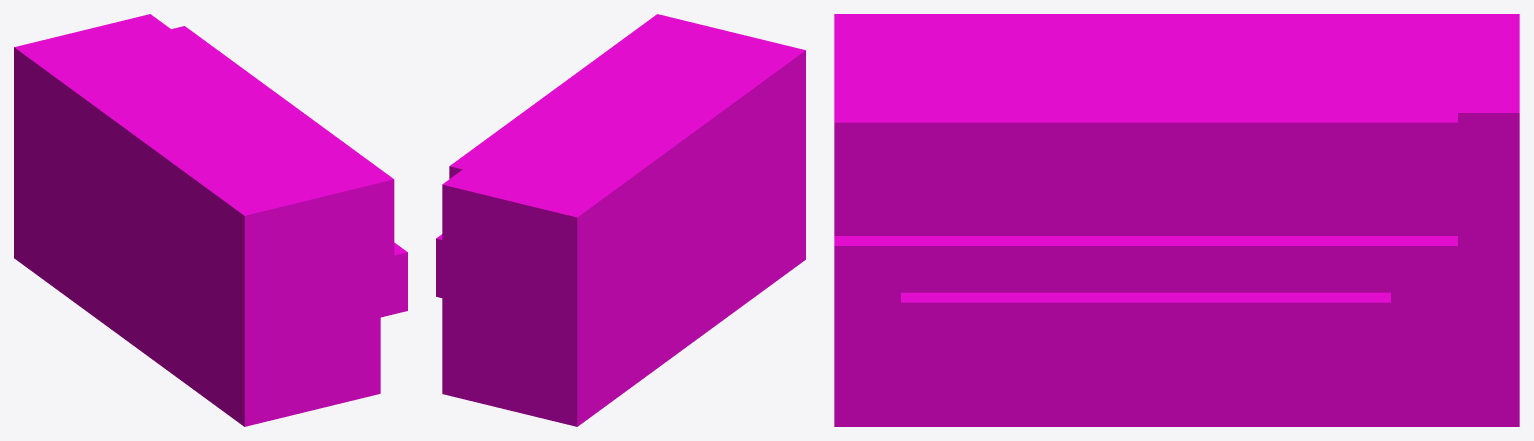
Rendered from meed_grocery_store.glb.
The picture shows the model from 3 angles, left to right: view 1: azimuth 30°, elevation 25°; view 2: azimuth 150°, elevation 25°; view 3: azimuth 270°, elevation 25°; orthographic projection. The views are drawn at different scales.
Parts seen in each view (by area): view 1: col_roof_371, col_roof_366, col_roof_361, col_roof_362, col_floor_11, col_roof_131, col_roof_363, col_roof_368, col_wall_341, col_roof_367, col_roof_370, col_roof_11 (+118 smaller); view 2: col_roof_361, col_roof_364, col_roof_362, col_roof_121, col_roof_01, col_roof_371, col_wall_221, col_wall_01, col_roof_370, col_roof_368, col_floor_01, col_roof_241 (+119 smaller); view 3: col_wall_454, col_wall_456, col_wall_453, col_wall_457, col_wall_455, col_wall_458, col_wall_708, col_wall_706, col_wall_710, col_wall_705, col_wall_459, col_wall_452 (+208 smaller).
Part boxes in pixels (box(x1,y1,x2,y2)): col_roof_371: box(222, 197, 258, 235); col_roof_366: box(118, 120, 154, 158); col_roof_361: box(14, 43, 49, 82); col_roof_362: box(35, 60, 71, 96); col_floor_11: box(222, 391, 258, 426); col_roof_131: box(222, 238, 258, 274); col_roof_363: box(55, 75, 89, 112); col_roof_368: box(159, 151, 196, 188); col_wall_341: box(222, 314, 258, 349); col_roof_367: box(139, 136, 174, 173); col_roof_370: box(201, 182, 237, 219); col_roof_11: box(222, 257, 258, 293); col_roof_361: box(563, 198, 599, 237); col_roof_364: box(625, 153, 661, 192); col_roof_362: box(584, 183, 620, 221); col_roof_121: box(563, 239, 599, 275); col_roof_01: box(563, 260, 599, 294); col_roof_371: box(771, 46, 805, 85); col_wall_221: box(563, 334, 599, 370); col_wall_01: box(563, 372, 599, 407); col_roof_370: box(749, 62, 784, 101); col_roof_368: box(709, 92, 743, 131); col_floor_01: box(563, 393, 598, 426); col_roof_241: box(563, 220, 599, 255); col_wall_454: box(1205, 292, 1271, 333); col_wall_456: box(1081, 292, 1148, 333); col_wall_453: box(1267, 292, 1334, 333); col_wall_457: box(1019, 292, 1086, 333); col_wall_455: box(1143, 292, 1210, 333); col_wall_458: box(958, 292, 1024, 333); col_wall_708: box(1081, 236, 1148, 276); col_wall_706: box(1205, 236, 1272, 276); col_wall_710: box(958, 236, 1024, 276); col_wall_705: box(1267, 236, 1334, 276); col_wall_459: box(896, 292, 962, 333); col_wall_452: box(1329, 292, 1395, 333).
Bounding box in the file's own units: 10.89 × 13.46 × 26.62.
